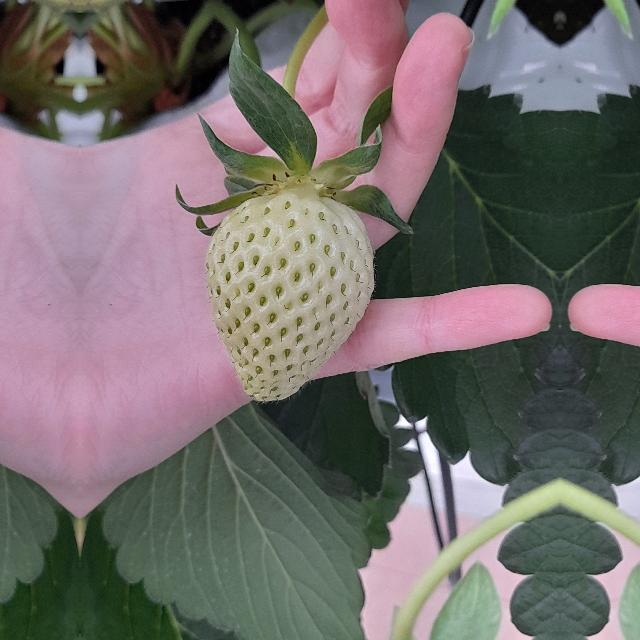Health_25: (204, 185, 374, 402)
